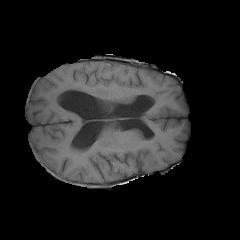glioma: (51, 79, 156, 108)
